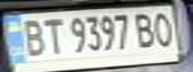3: (81, 12, 103, 52)
7: (112, 11, 133, 51)
9: (63, 14, 87, 53), (100, 12, 118, 52)
B: (15, 16, 48, 57), (133, 10, 160, 49)
O: (148, 9, 178, 48)
T: (39, 15, 66, 55)
